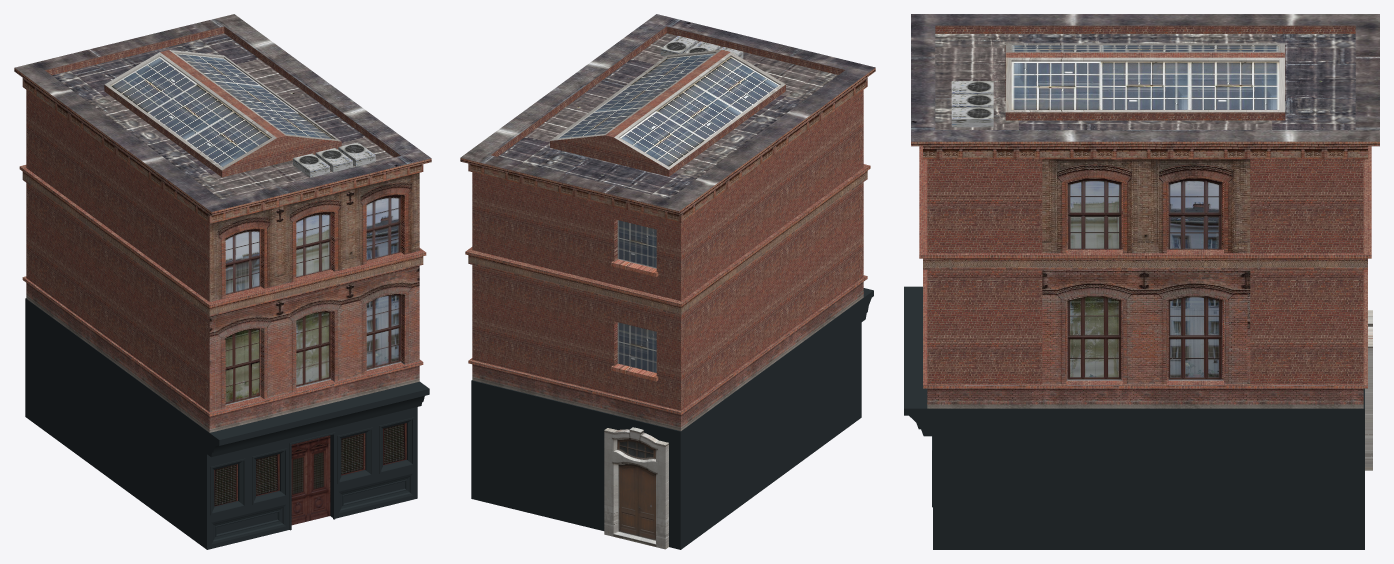
The model's file is Building_A12.obj.
3 renders of one model, left to right at view 1: azimuth 30°, elevation 25°; view 2: azimuth 150°, elevation 25°; view 3: azimuth 270°, elevation 25°, orthographic. The views are drawn at different scales.
Visible parts, largest first — view 1: K_Building_A12_00; view 2: K_Building_A12_00; view 3: K_Building_A12_00.
Part boxes in pixels (box(x1,y1,x2,y2)): K_Building_A12_00: box(14, 14, 431, 549); K_Building_A12_00: box(460, 14, 875, 549); K_Building_A12_00: box(904, 14, 1379, 549).
Bounding box in the file's own units: 6.17 × 9.79 × 9.73.
